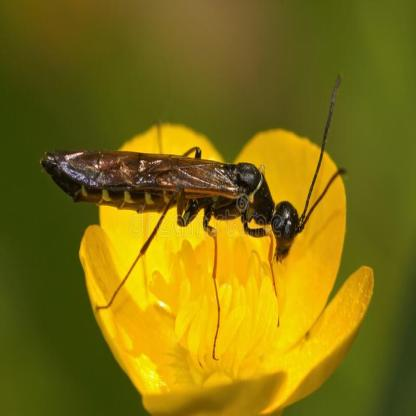sawfly: (35, 66, 345, 374)
